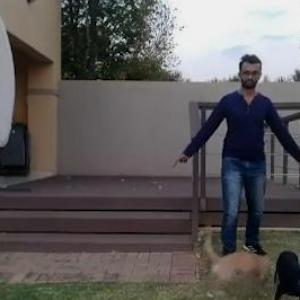land: (177, 53, 299, 271)
